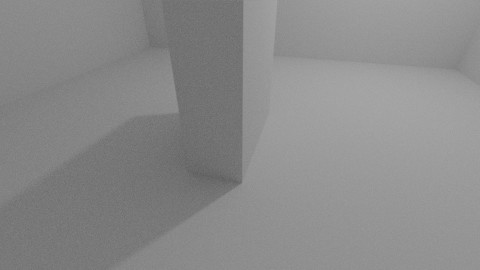cheminee: (161, 1, 277, 183)
